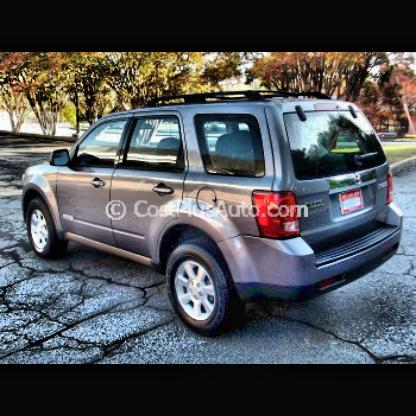Mazda Tribute SUV 2011: (21, 89, 407, 339)
